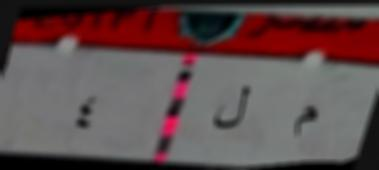4: (66, 88, 109, 140)
laam: (208, 74, 262, 142)
meem: (283, 96, 329, 148)
